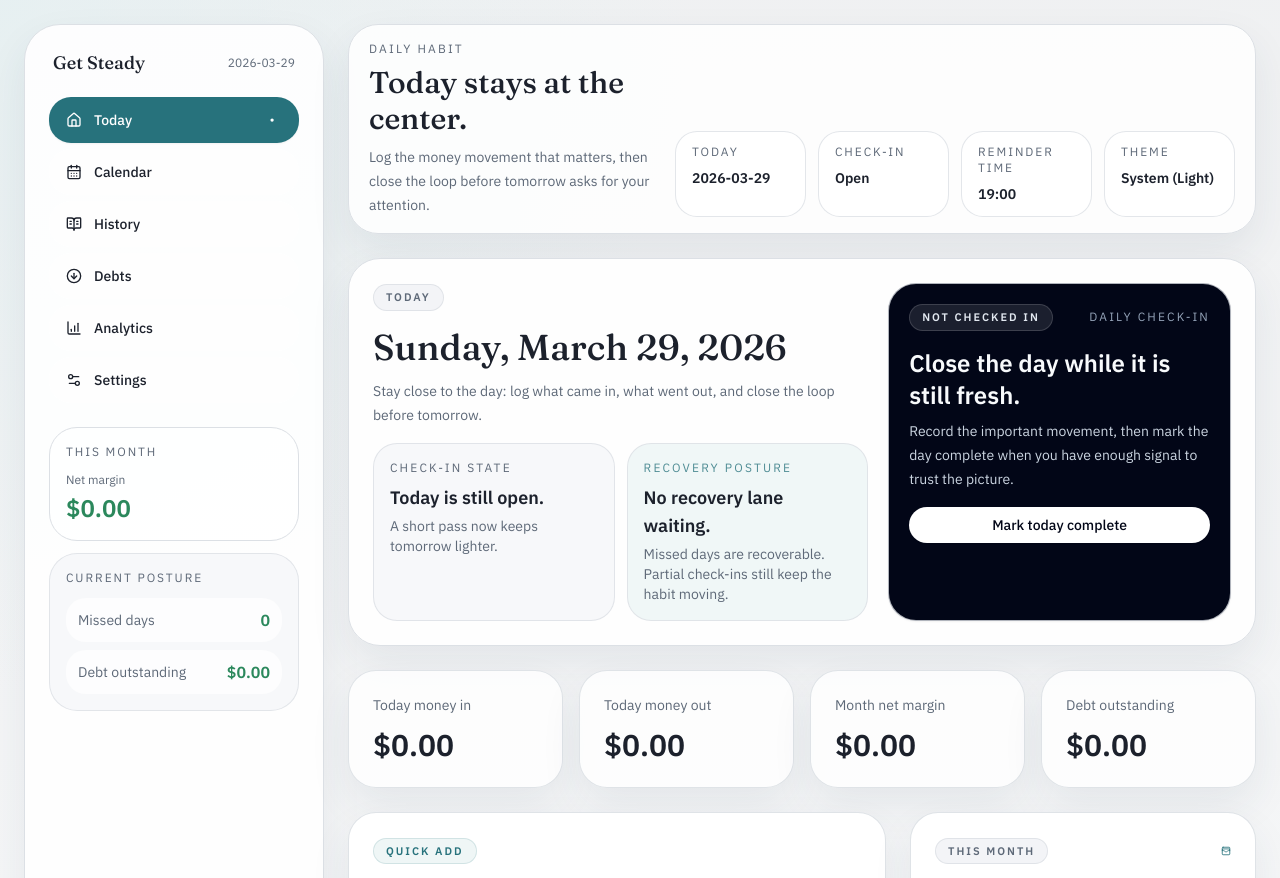
Test: App › disables restore for failed backups in settings
The image size is (1280, 878).
Click the button "Settings". click: (174, 380)
box: [49,357,299,403]
(page scrolled)
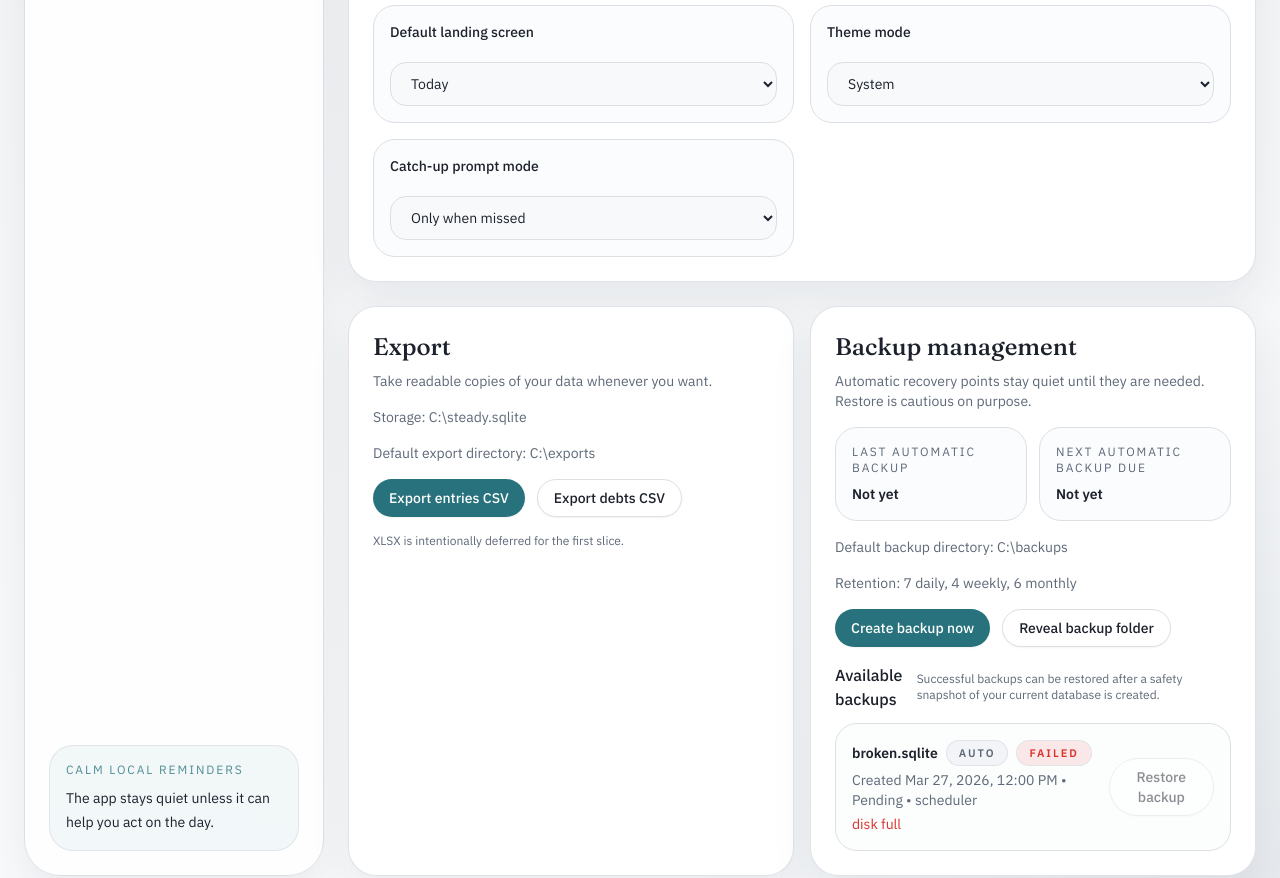
Now the text "disk full" is shown, box [852,815,901,833]
Now the button "Restore backup" is disabled, box [1109,758,1214,816]
